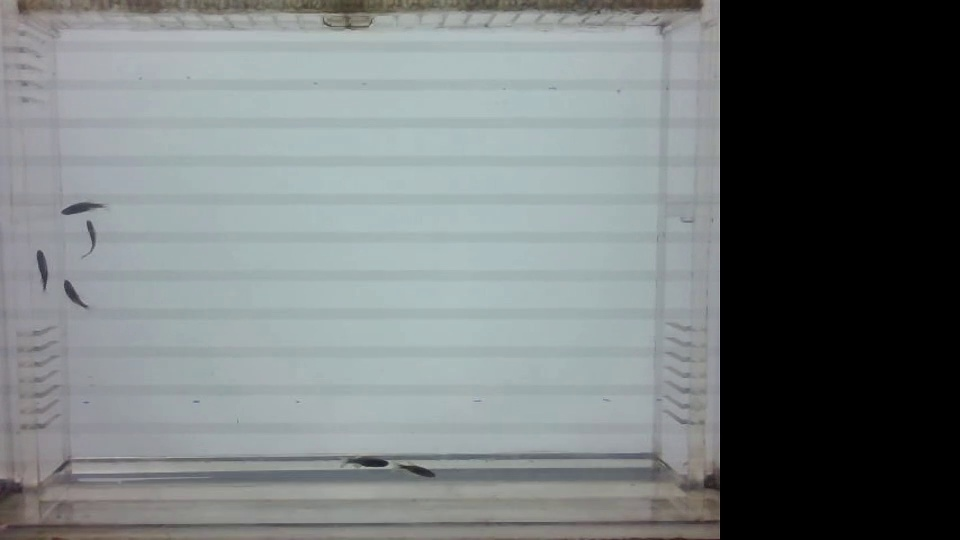fish: (333, 450, 392, 472), (76, 216, 102, 262), (392, 460, 446, 482), (28, 244, 50, 296), (60, 277, 94, 309), (56, 200, 112, 217)
